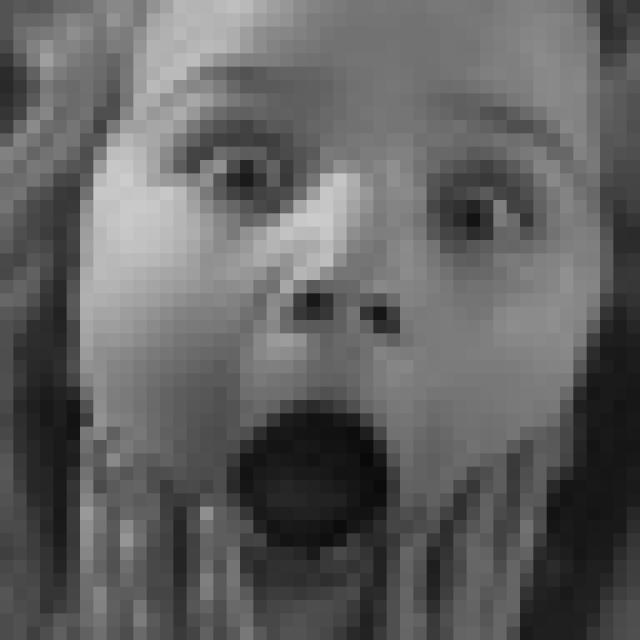surprise: (133, 48, 589, 592)
